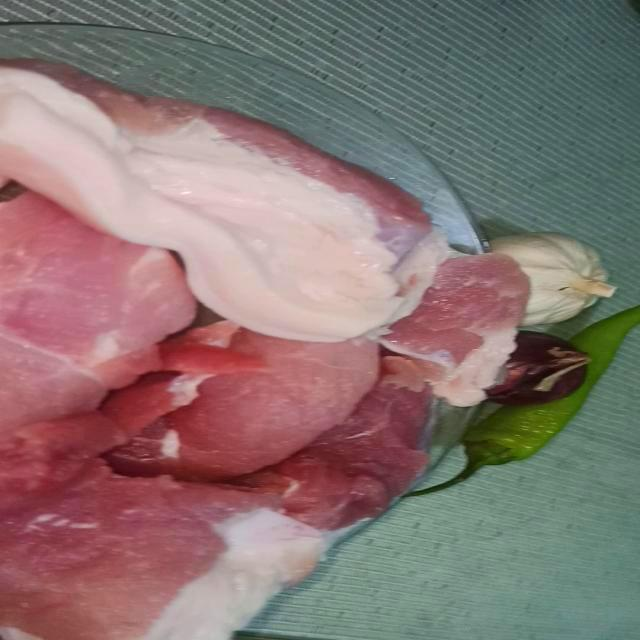chili_pepper: (450, 303, 640, 497)
garlic: (465, 212, 599, 332)
onion: (459, 334, 584, 424)
pork: (0, 54, 436, 324), (0, 471, 376, 640), (74, 313, 382, 467), (0, 180, 169, 432), (287, 383, 480, 520), (380, 239, 531, 404)
